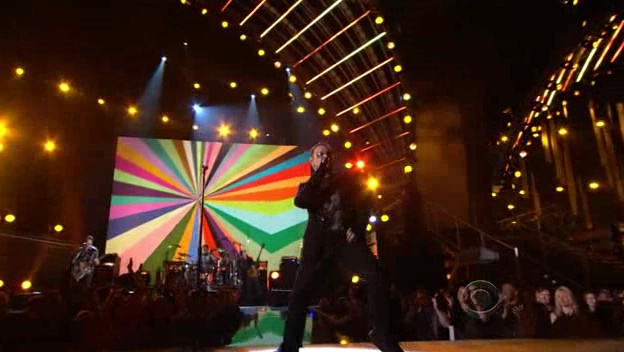person: (297, 145, 363, 266), (294, 145, 360, 266), (300, 145, 366, 266), (297, 142, 363, 263), (297, 148, 363, 269)
target_negative: (115, 161, 622, 310), (440, 56, 571, 220), (145, 183, 383, 272), (592, 41, 624, 249), (596, 67, 600, 336), (451, 264, 458, 337)
